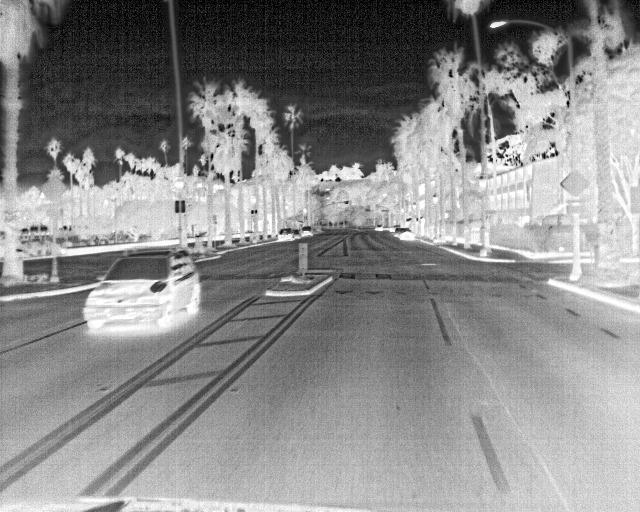car: (81, 246, 200, 330), (397, 227, 416, 241), (276, 227, 294, 241), (299, 224, 315, 238), (290, 227, 303, 241), (392, 226, 405, 239), (389, 222, 401, 234), (372, 222, 383, 234)
